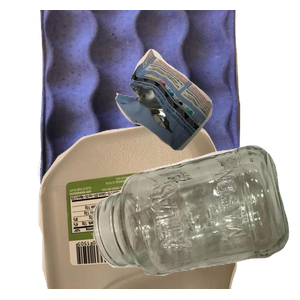glass: (91, 143, 300, 300)
paper: (35, 10, 268, 190)
plastic: (36, 120, 265, 300)
trash: (113, 46, 300, 189)
